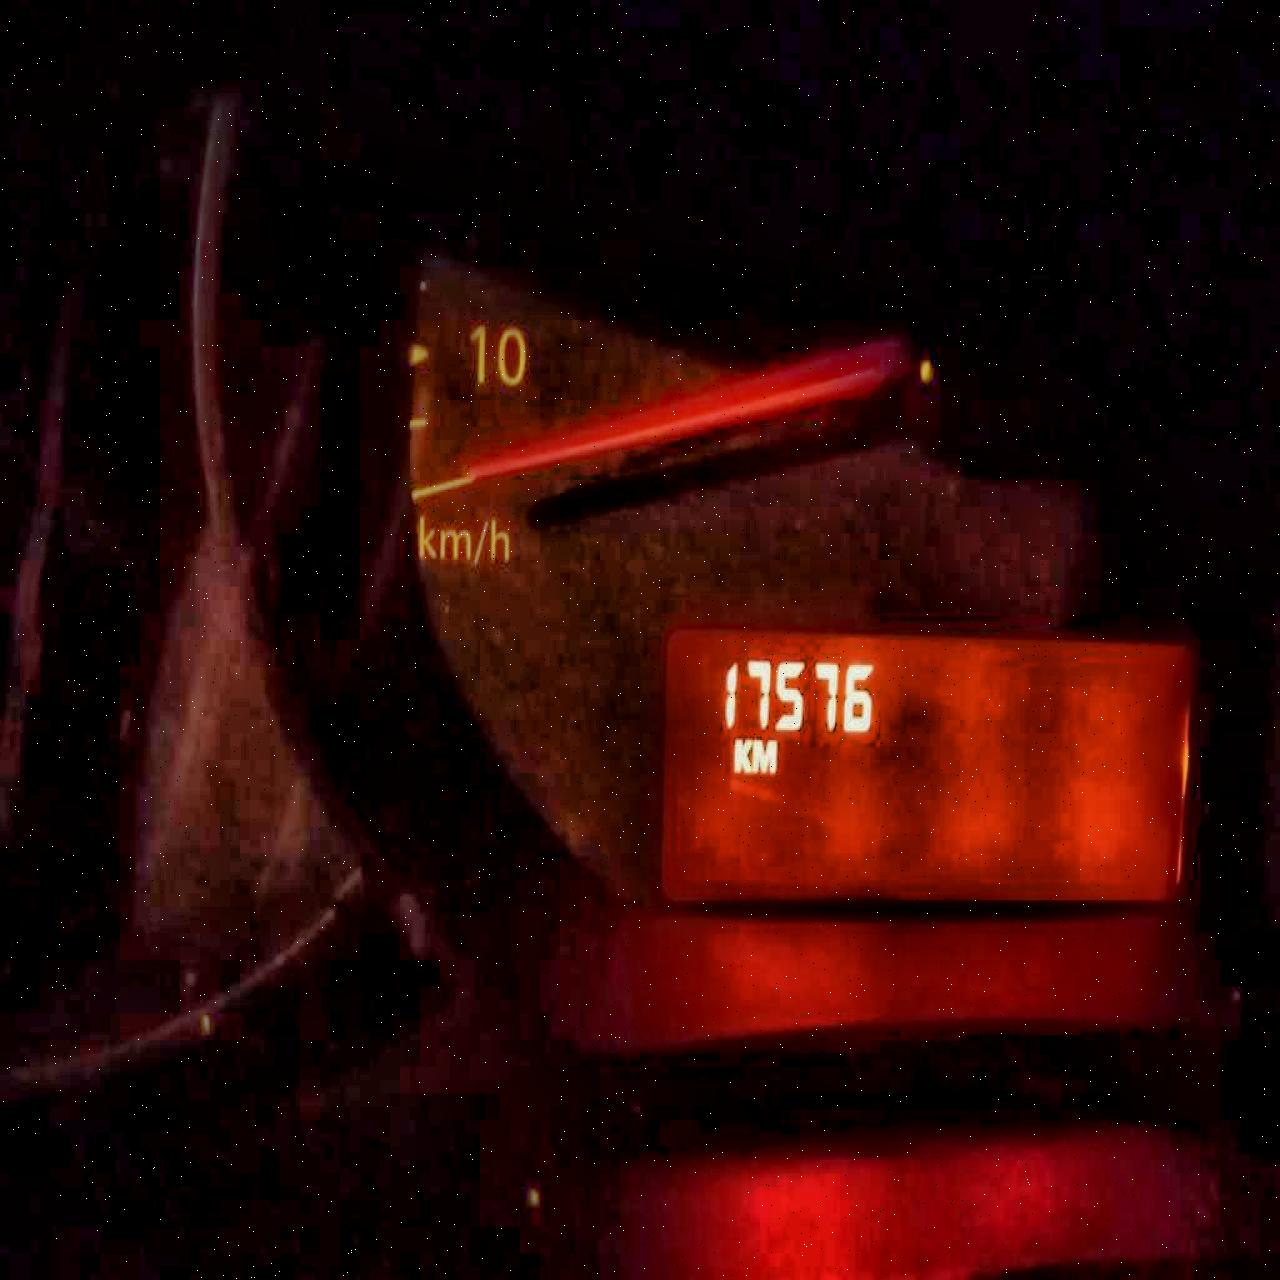1: (811, 659, 839, 731), (721, 656, 738, 730)
5: (774, 659, 804, 731)
6: (842, 660, 873, 734)
7: (744, 656, 770, 730)
X: (751, 734, 777, 775), (730, 734, 751, 774)
odometer: (651, 607, 1194, 928)
